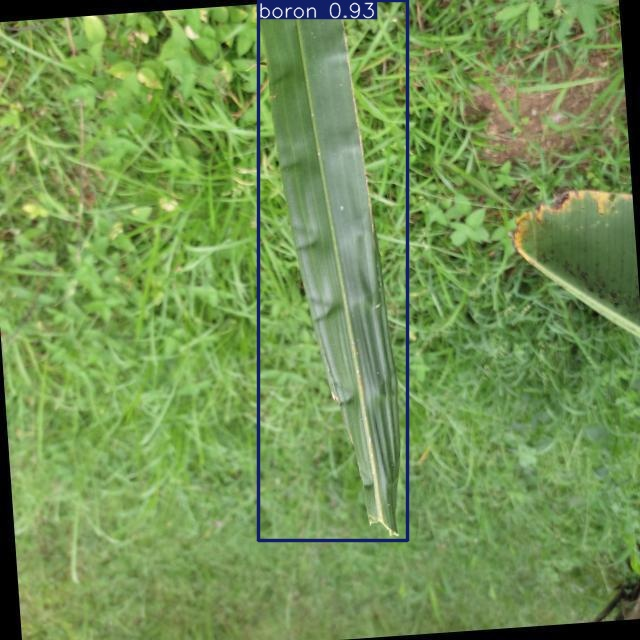nitrogen: (258, 0, 408, 541)
